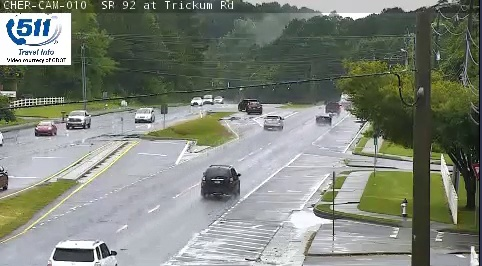car: (47, 240, 118, 266), (202, 167, 240, 195), (264, 115, 283, 129), (315, 113, 332, 126)
